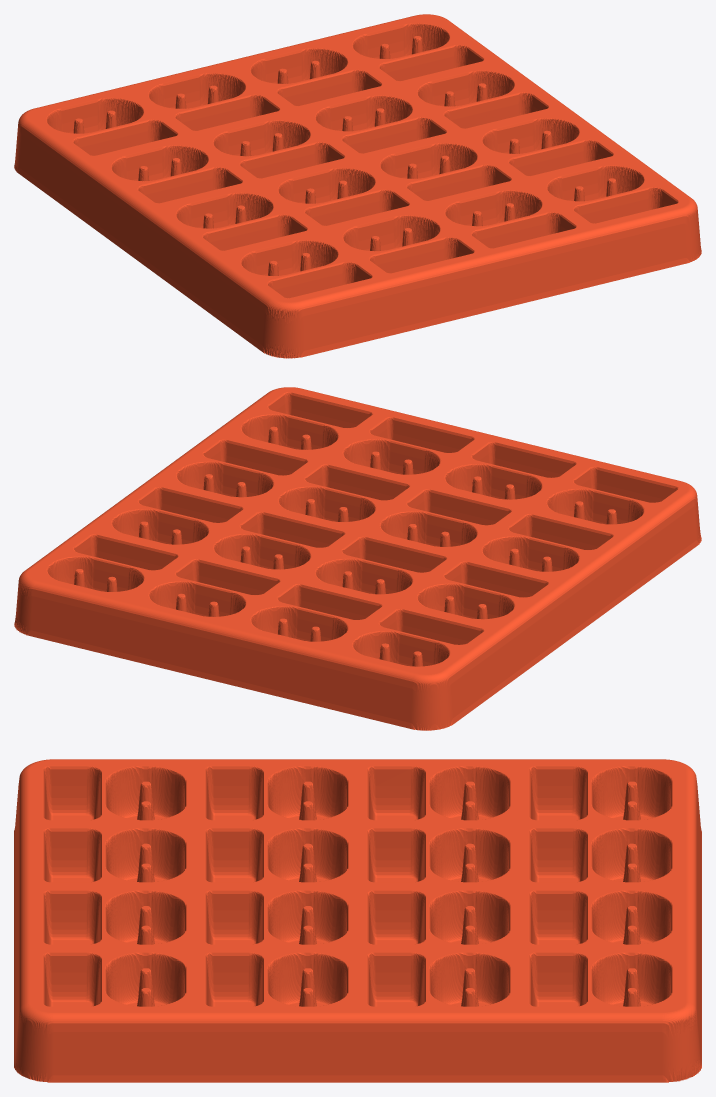
File: mold.glb
3 renders of one model, top to bottom at view 1: azimuth 30°, elevation 25°; view 2: azimuth 150°, elevation 25°; view 3: azimuth 270°, elevation 25°, orthographic. The views are drawn at different scales.
Visible parts, largest first — view 1: geometry_0; view 2: geometry_0; view 3: geometry_0.
Part boxes in pixels (x1=…): geometry_0: x1=14, y1=14, x2=701, y2=358; geometry_0: x1=14, y1=387, x2=701, y2=730; geometry_0: x1=14, y1=759, x2=701, y2=1082.
Bounding box in the file's own units: 0.1434 × 0.0159 × 0.1569.
